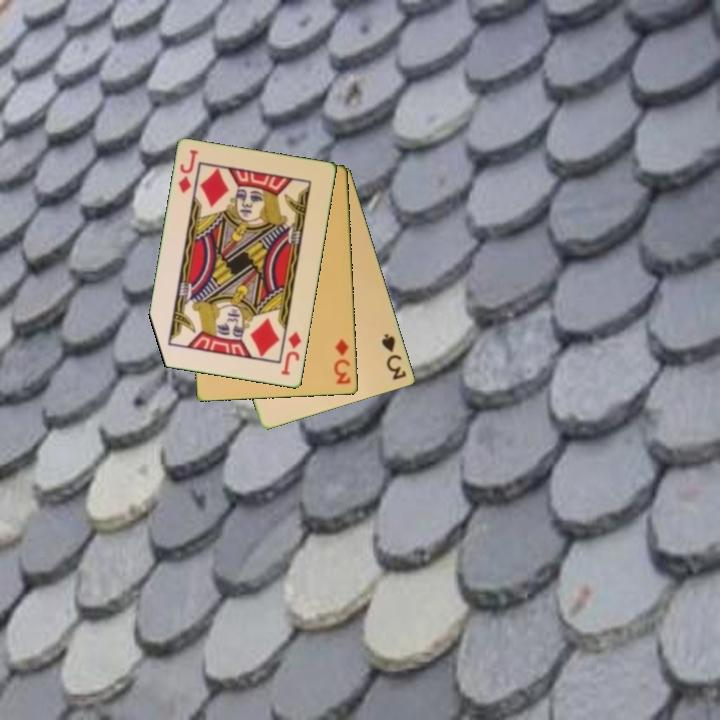3d: (331, 336, 354, 387)
3s: (378, 330, 409, 383)
Jd: (278, 328, 305, 378), (175, 147, 201, 197)
